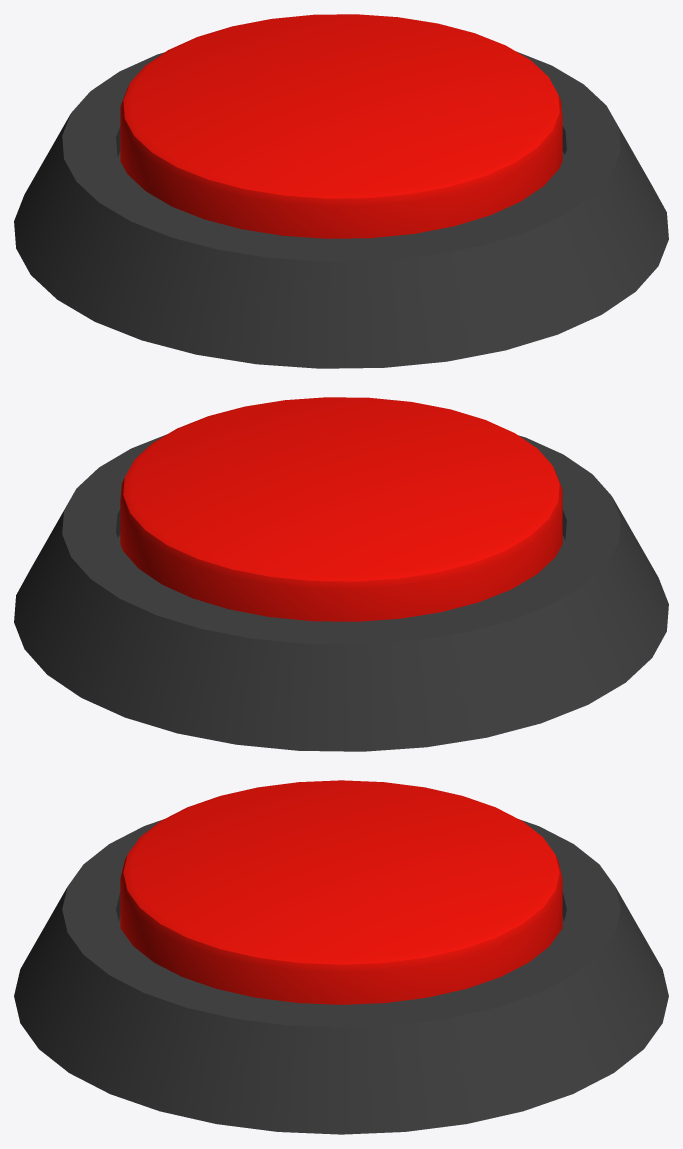
File: Segap 01 07 Button.fbx
The picture shows the model from 3 angles, top to bottom: view 1: azimuth 30°, elevation 25°; view 2: azimuth 150°, elevation 25°; view 3: azimuth 270°, elevation 25°; orthographic projection.
Parts seen in each view (by area): view 1: Circle.004, Circle.005; view 2: Circle.004, Circle.005; view 3: Circle.004, Circle.005.
Part boxes in pixels (x1,y1,x2,y2): Circle.004: (14,51,668,368); Circle.005: (120,14,562,238); Circle.004: (14,434,668,751); Circle.005: (120,397,562,621); Circle.004: (14,819,668,1134); Circle.005: (120,780,562,1004).
Size of the model in its own units: 200 by 42.55 by 200.
